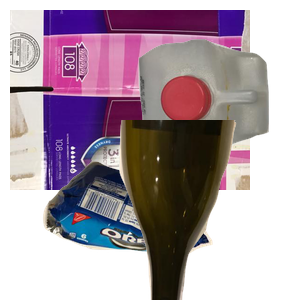cardboard: (10, 10, 250, 190)
glass: (117, 120, 300, 300)
plastic: (136, 37, 300, 188)
trash: (40, 158, 245, 300)
